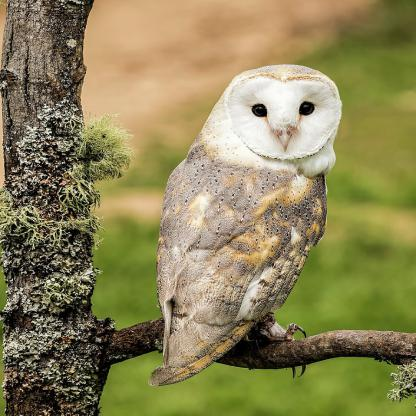owl: (102, 8, 416, 416)
